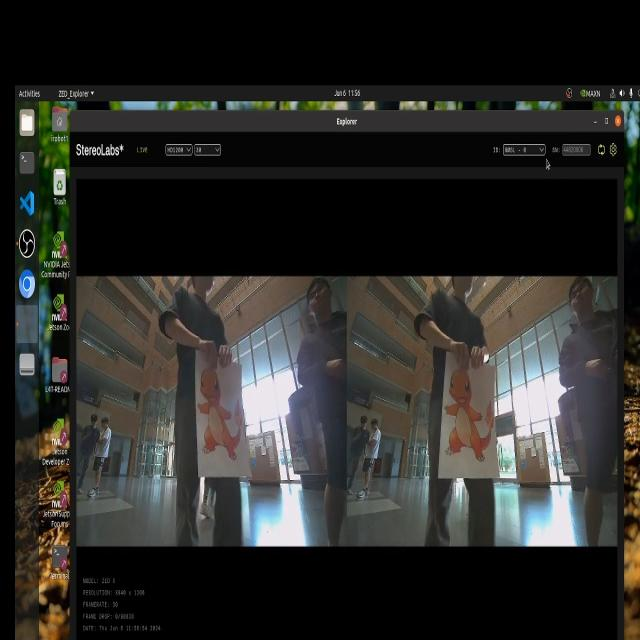red: (438, 354, 503, 472), (192, 367, 251, 473)
